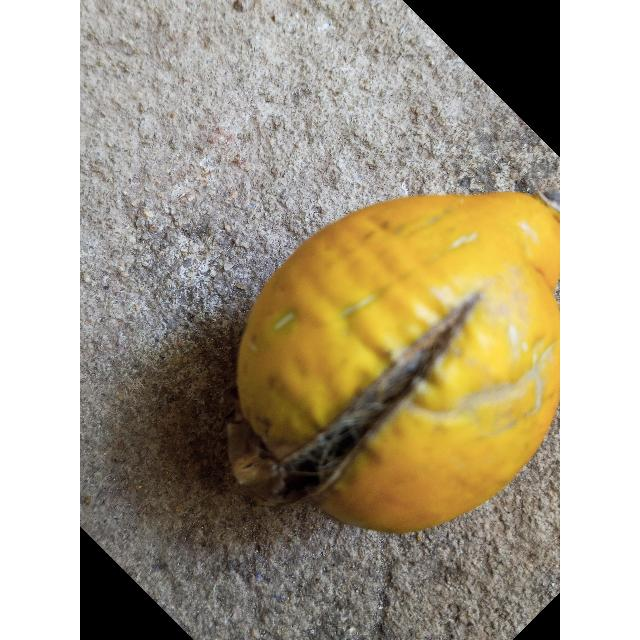damaged: (232, 192, 560, 537)
